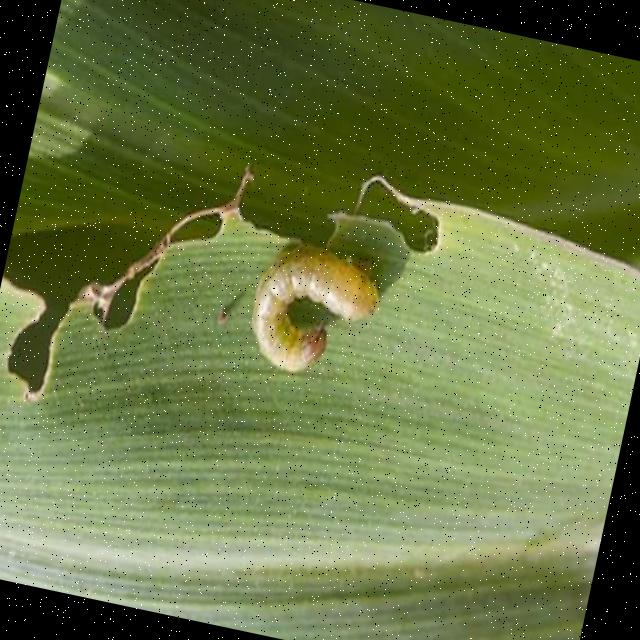worm: (239, 234, 389, 390)
